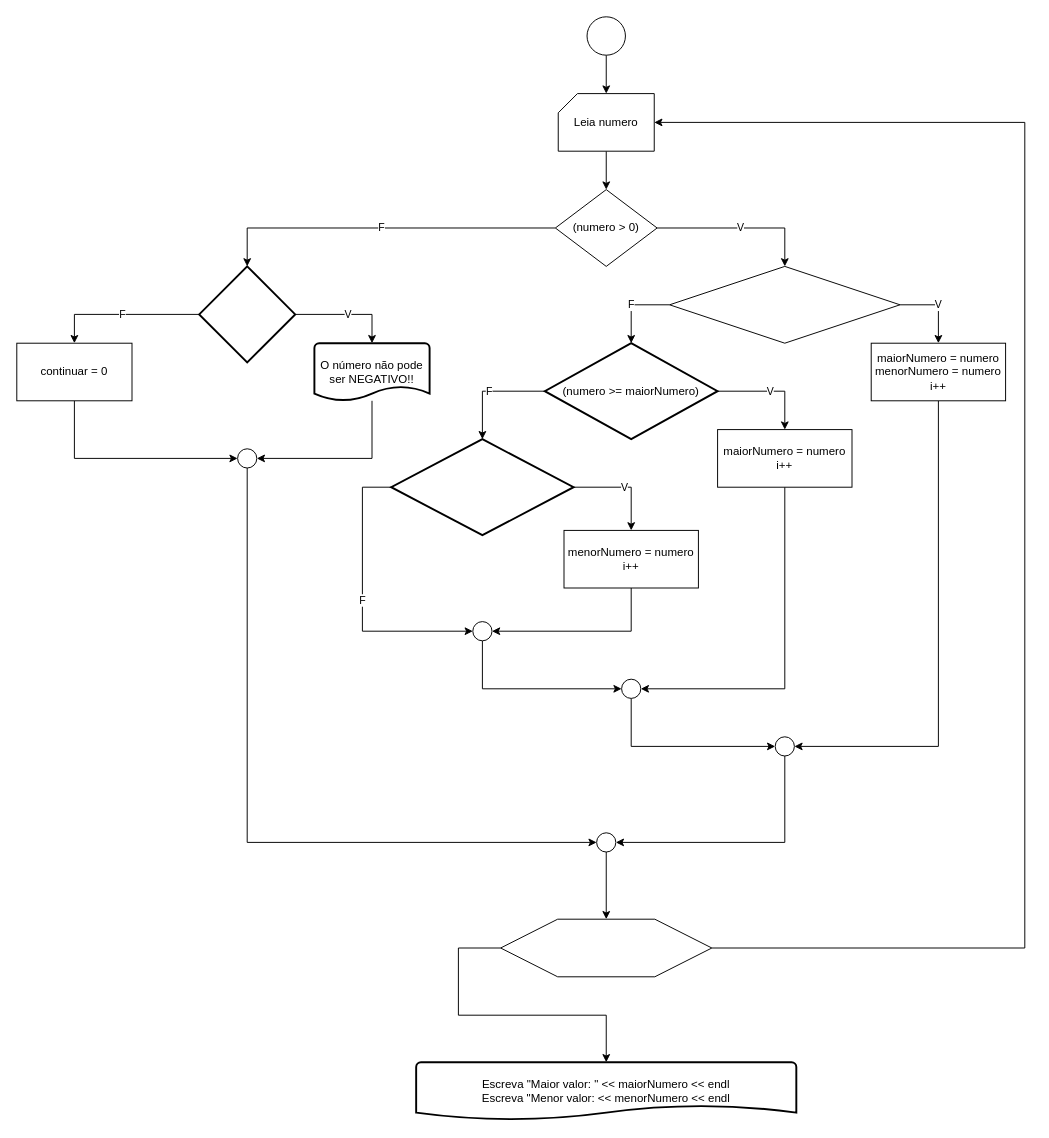
Image size: 1049x1138. Some labels were removed from this diagram. Here are the shapes that lost their labels. From the top down, the centre of each, then its label:
At pixel 605 35: "Início".
At pixel 247 314: "(numero < 0)".
At pixel 784 304: "(i == 0)".
At pixel 482 487: "(numero <= menorNumero)".
At pixel 606 947: "Enquanto continuar == 1".
